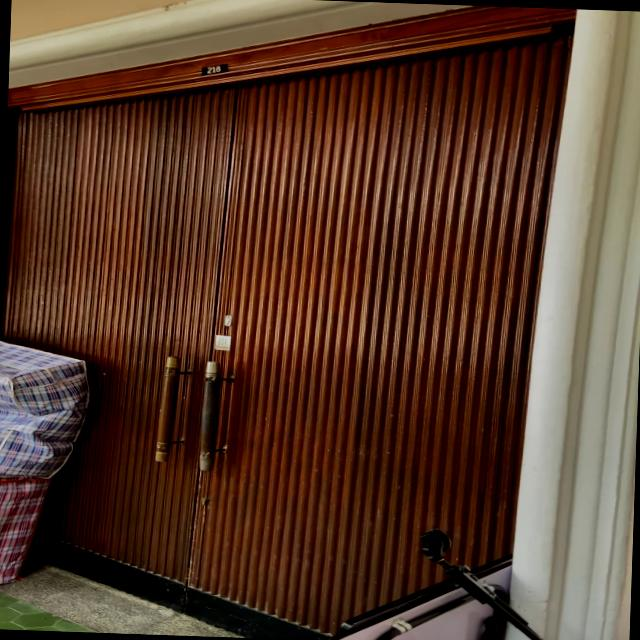room218: (198, 63, 228, 76)
